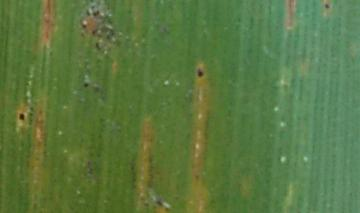tarspot: (194, 62, 208, 83), (84, 157, 95, 178), (16, 109, 28, 125), (82, 79, 92, 93), (322, 1, 332, 13), (91, 7, 101, 18), (84, 7, 92, 18), (94, 39, 101, 51)
